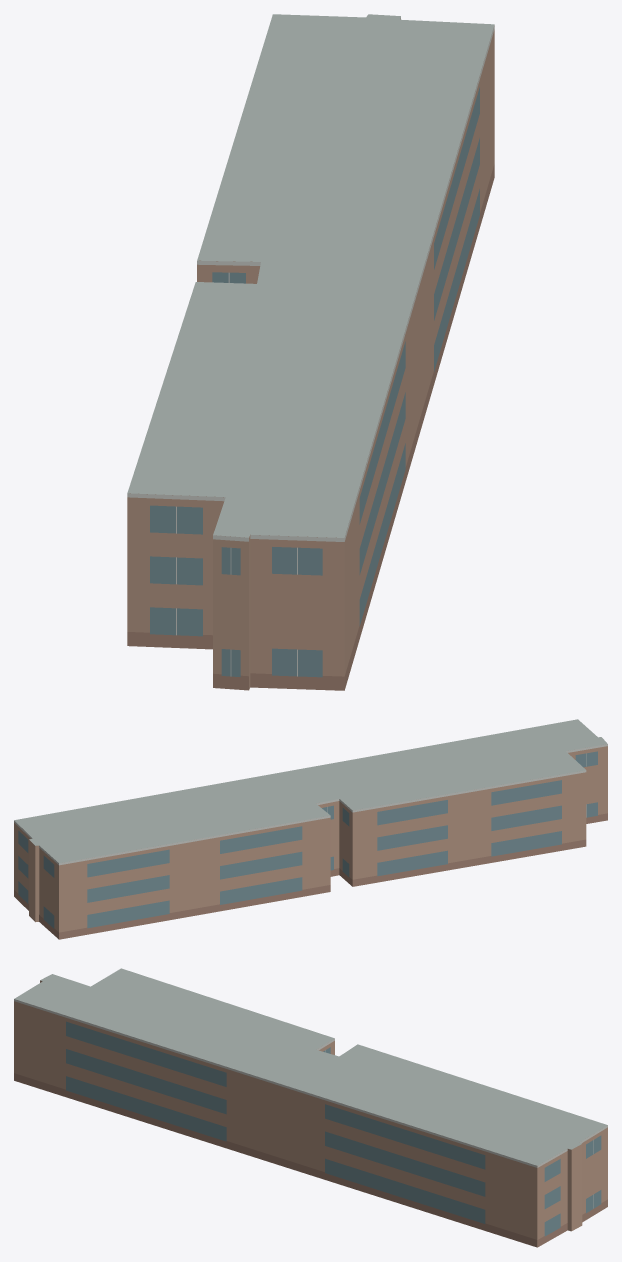
The model's file is survey-upis-32679546.glb.
3 views of the same model, one above another, from view 1: azimuth 30°, elevation 25°; view 2: azimuth 150°, elevation 25°; view 3: azimuth 270°, elevation 25° (orthographic). The views are drawn at different scales.
Parts seen in each view (by area): view 1: survey-upis-32679546.tmp; view 2: survey-upis-32679546.tmp; view 3: survey-upis-32679546.tmp.
Boxes of the visible parts, x1=… form: survey-upis-32679546.tmp: x1=127, y1=14, x2=494, y2=690; survey-upis-32679546.tmp: x1=14, y1=719, x2=607, y2=939; survey-upis-32679546.tmp: x1=14, y1=968, x2=607, y2=1247.
Bounding box in the file's own units: 47.42 × 9.15 × 60.26.
